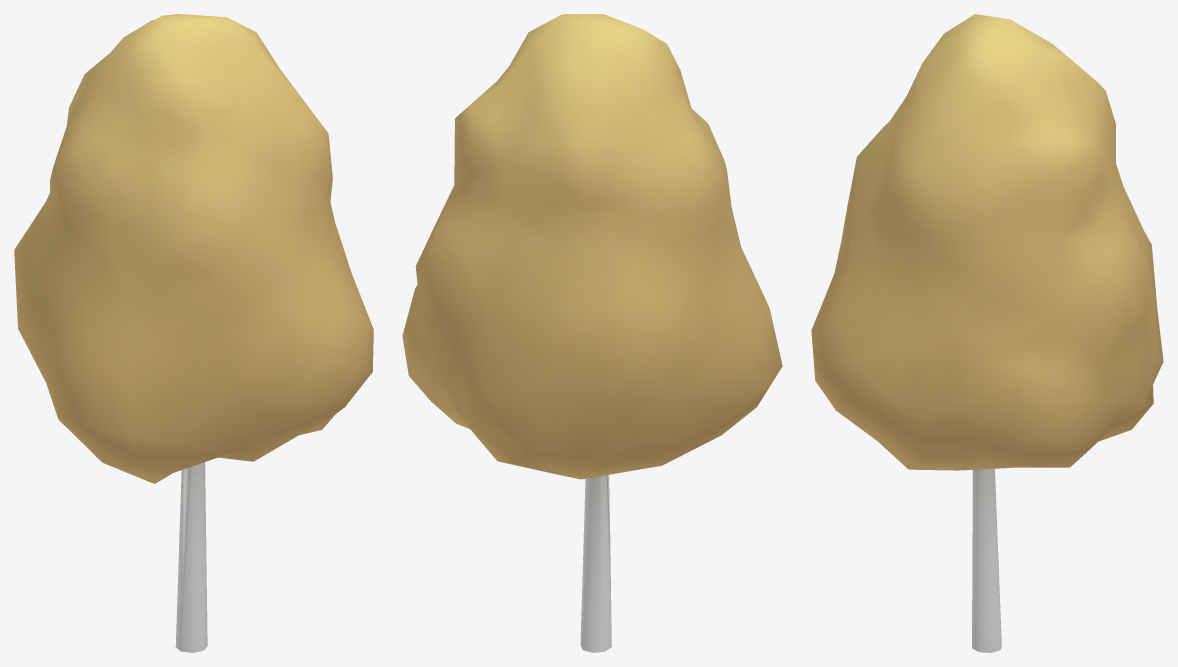
3 renders of one model, left to right at view 1: azimuth 30°, elevation 25°; view 2: azimuth 150°, elevation 25°; view 3: azimuth 270°, elevation 25°, orthographic.
Parts seen in each view (by area): view 1: Berez 001.009; view 2: Berez 001.009; view 3: Berez 001.009.
Part boxes in pixels (x1,y1,x2,y2): Berez 001.009: (14, 14, 373, 652); Berez 001.009: (402, 14, 782, 652); Berez 001.009: (811, 14, 1163, 652).
Size of the model in its own units: 10.44 by 20 by 10.31.
1 material, 1 textured.
